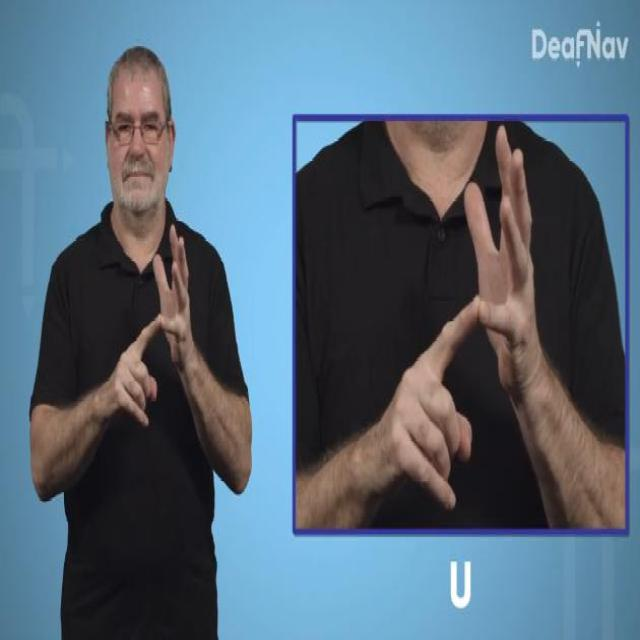U: (389, 121, 540, 516), (114, 226, 195, 435)
